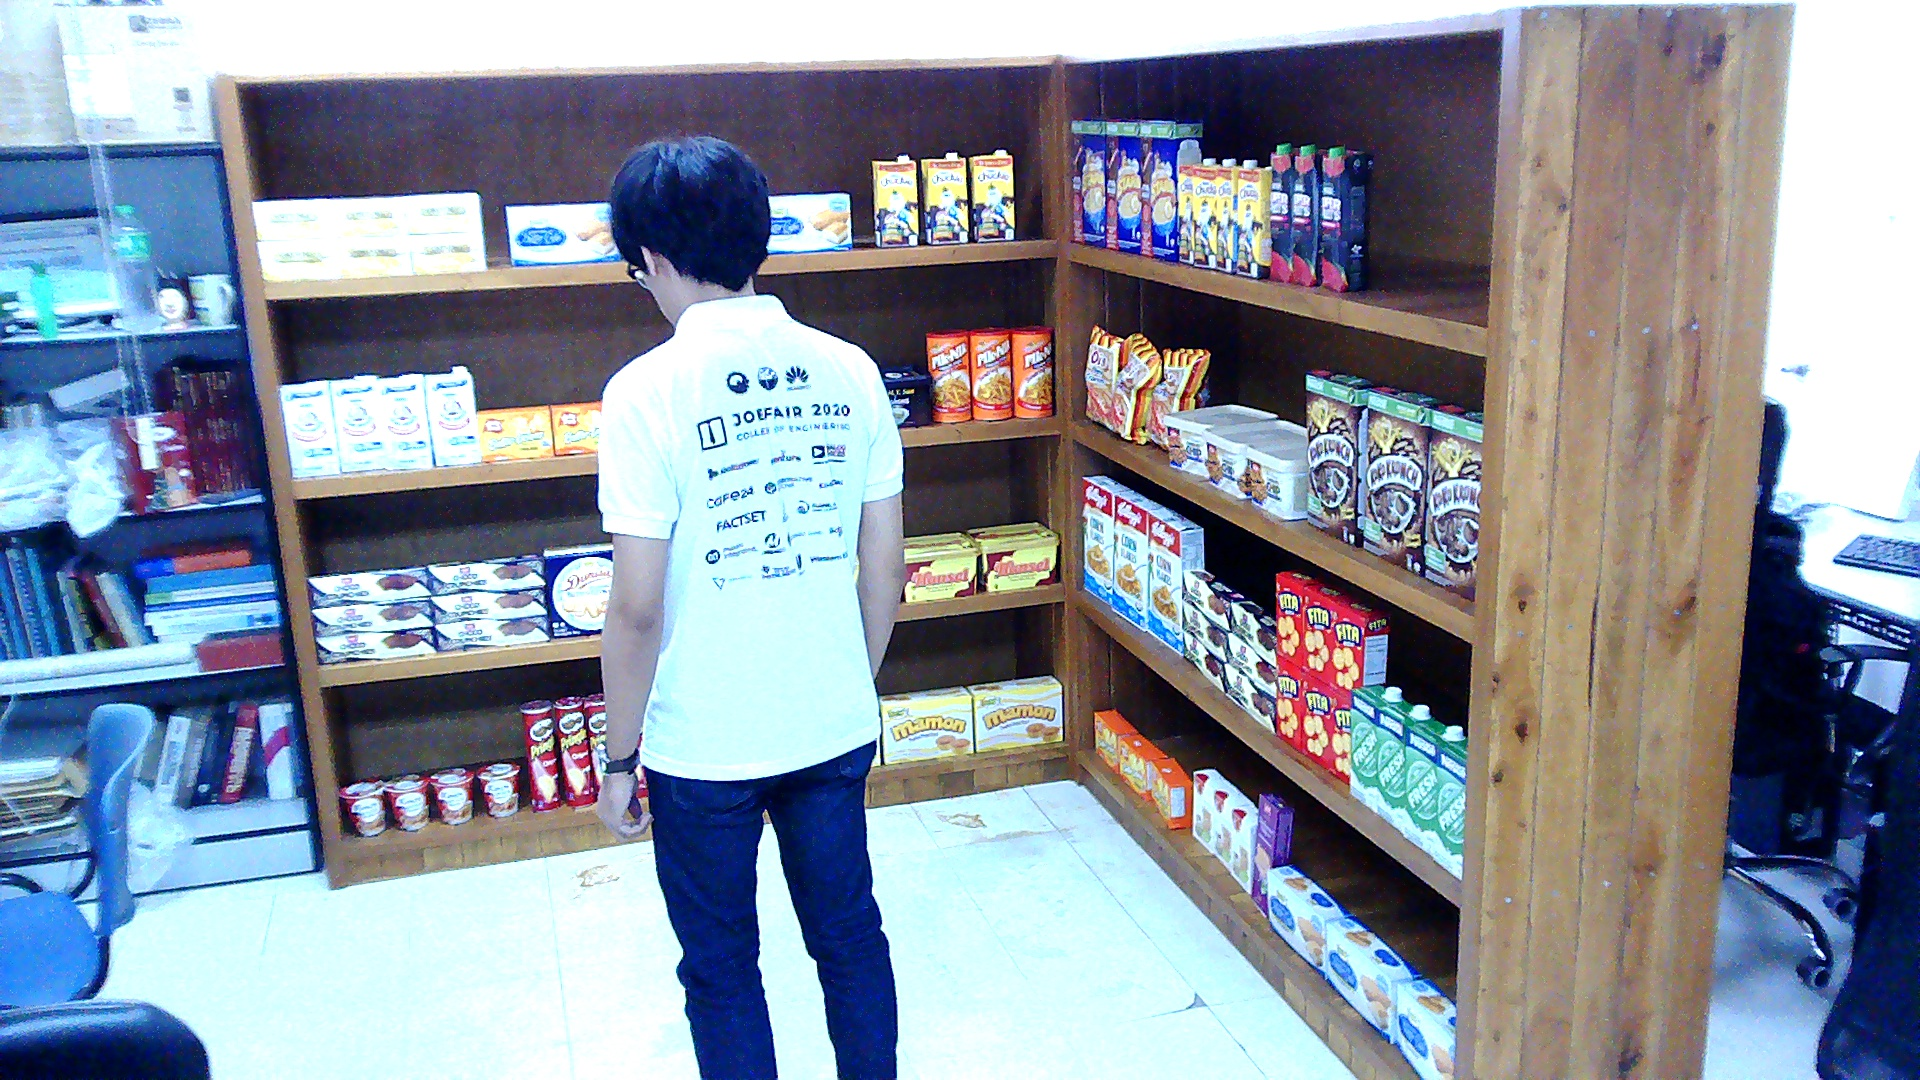Bear brand: (279, 377, 339, 476), (327, 373, 387, 470), (422, 364, 479, 463), (374, 374, 431, 468)
Buttercake: (1326, 916, 1422, 1044), (1265, 863, 1352, 976), (504, 198, 618, 266), (1395, 978, 1455, 1077), (765, 191, 852, 254)
Butterlicious: (477, 405, 552, 459), (1116, 733, 1164, 798), (1149, 756, 1191, 828), (549, 395, 600, 454), (1095, 708, 1137, 771)
Camomille: (408, 229, 486, 272), (252, 198, 333, 238), (255, 239, 339, 277), (405, 188, 480, 231), (335, 234, 410, 274), (330, 196, 408, 234)
Choco Crunchies: (305, 562, 428, 605), (426, 551, 546, 594), (309, 596, 432, 634), (428, 585, 545, 623), (315, 628, 435, 662), (1221, 661, 1275, 731), (435, 614, 549, 648), (1181, 569, 1244, 628), (1227, 632, 1275, 693), (1182, 600, 1227, 659), (1230, 598, 1272, 657), (1182, 632, 1224, 686)
Chocolate Chips: (1164, 403, 1278, 477), (1203, 418, 1305, 497), (1245, 434, 1305, 520)
Chuckie: (1215, 157, 1257, 272), (1194, 158, 1236, 268), (870, 153, 918, 247), (966, 149, 1014, 241), (920, 149, 965, 243), (1179, 155, 1215, 263), (1236, 167, 1269, 277)
Danisa: (542, 542, 611, 636)
Fita: (1332, 598, 1392, 695), (1275, 566, 1326, 663), (1305, 582, 1356, 681), (1298, 670, 1331, 767), (1275, 655, 1302, 749), (1326, 686, 1350, 783)
Fresh Milk: (1401, 717, 1464, 852), (1374, 700, 1431, 830), (1346, 684, 1403, 810), (1431, 736, 1467, 880)
Grahams: (876, 362, 930, 423)
Hansel: (966, 522, 1059, 590), (900, 531, 981, 603)
Head: (602, 126, 779, 340)
Honey Stars: (1139, 119, 1202, 261), (1104, 119, 1140, 252), (1070, 117, 1103, 245)
Kellogg Corn Flakes: (1146, 504, 1203, 650), (1109, 488, 1160, 630), (1079, 475, 1130, 605)
Kimchi Noodles: (339, 778, 387, 837), (474, 761, 519, 817), (428, 767, 473, 823), (384, 774, 429, 830)
Koko Krunch: (1361, 382, 1448, 576), (1425, 403, 1485, 601), (1305, 369, 1368, 547)
Mamon: (876, 683, 972, 762), (966, 675, 1062, 751)
Oishi Prawn: (1149, 346, 1212, 449), (1104, 333, 1161, 443), (1083, 321, 1134, 422)
Pik-nik: (924, 329, 969, 423), (969, 326, 1011, 418), (1011, 324, 1053, 416)
Pringles: (552, 695, 594, 805), (519, 700, 561, 810), (582, 693, 606, 799)
Super Fruits: (1319, 144, 1370, 290), (1269, 139, 1299, 281), (1293, 144, 1323, 286)
Wafer: (1250, 790, 1295, 916)
iHop: (1191, 767, 1233, 850), (1211, 785, 1250, 871), (1229, 803, 1256, 893)
